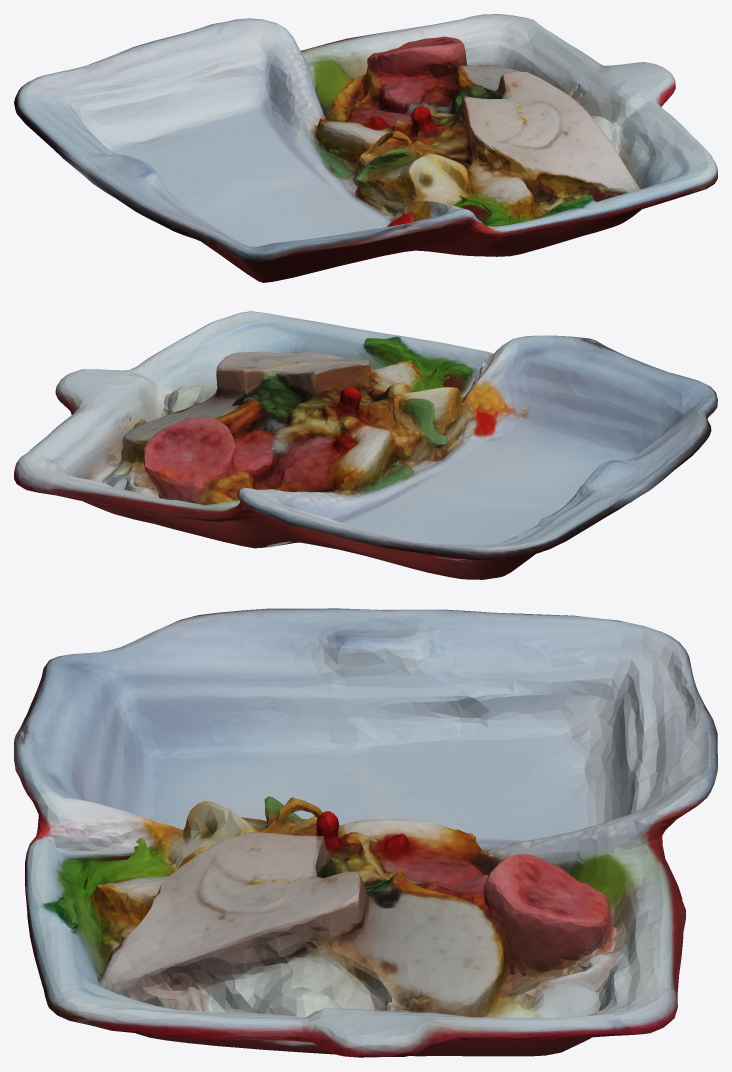
The model's file is Mon_Banh_Uot.glb.
3 views of the same model, one above another, from view 1: azimuth 30°, elevation 25°; view 2: azimuth 150°, elevation 25°; view 3: azimuth 270°, elevation 25° (orthographic). The views are drawn at different scales.
Parts seen in each view (by area): view 1: world; view 2: world; view 3: world.
Part boxes in pixels (x1,y1,x2,y2): world: (14,14,717,282); world: (14,311,717,579); world: (14,608,717,1057).
Bounding box in the file's own units: 1 × 0.1614 × 0.771.
1 material, 1 textured.
